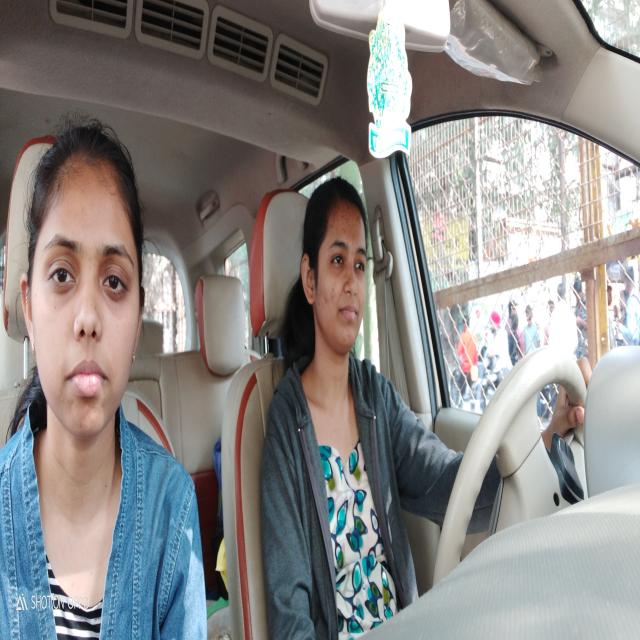person: (27, 144, 141, 426), (299, 181, 373, 357)
